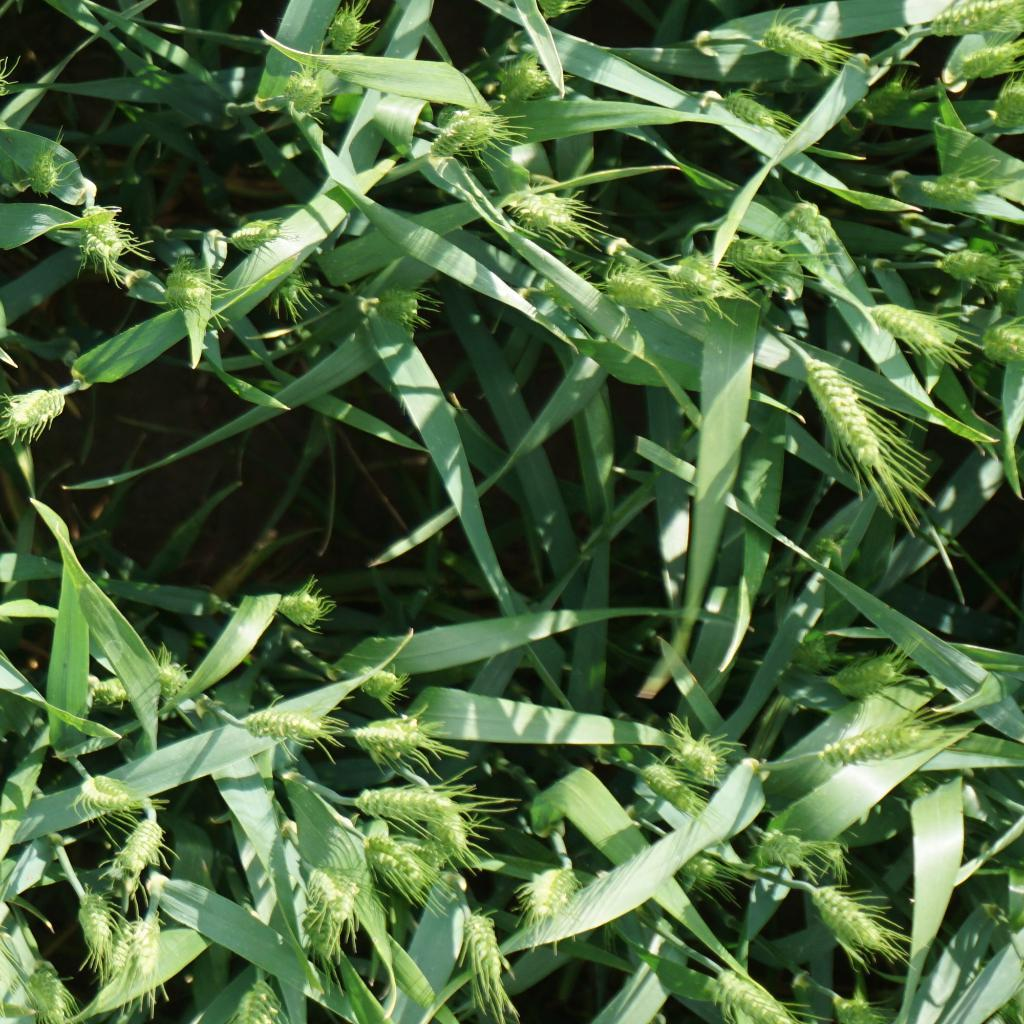0-0: (793, 349, 887, 468), (360, 785, 471, 855), (406, 782, 484, 863), (813, 882, 887, 950), (821, 723, 929, 769), (303, 865, 365, 945), (102, 911, 160, 995), (668, 249, 751, 307), (871, 297, 954, 353), (456, 907, 504, 1001), (349, 833, 428, 888), (713, 967, 787, 1024), (349, 713, 438, 760), (3, 380, 72, 438), (512, 189, 590, 238), (521, 862, 580, 926), (606, 266, 685, 311), (71, 890, 116, 968), (243, 705, 331, 744), (928, 0, 1018, 38), (760, 17, 839, 60), (631, 758, 691, 813), (368, 836, 448, 877), (824, 651, 907, 690), (952, 38, 1021, 82), (937, 243, 1008, 284), (83, 195, 124, 263), (270, 586, 332, 630), (165, 254, 217, 306), (429, 107, 480, 158), (498, 60, 548, 110), (854, 76, 919, 114), (117, 822, 163, 875), (238, 969, 282, 1024), (713, 89, 775, 128), (726, 237, 790, 271), (672, 735, 721, 779), (38, 962, 72, 1024), (921, 174, 993, 202), (283, 75, 325, 123), (224, 214, 285, 247), (754, 832, 815, 865), (973, 318, 1024, 357), (271, 258, 310, 308), (378, 285, 424, 327), (79, 778, 135, 812), (794, 633, 837, 676), (327, 3, 362, 52), (146, 658, 190, 696), (355, 663, 400, 700), (994, 82, 1024, 136), (784, 201, 825, 240), (26, 151, 62, 194), (678, 848, 722, 875), (97, 672, 131, 704)
